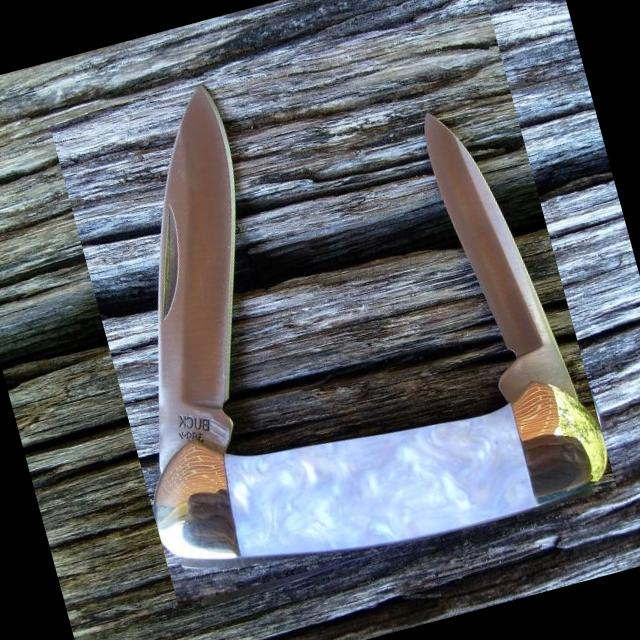Knife: (154, 86, 608, 563)
